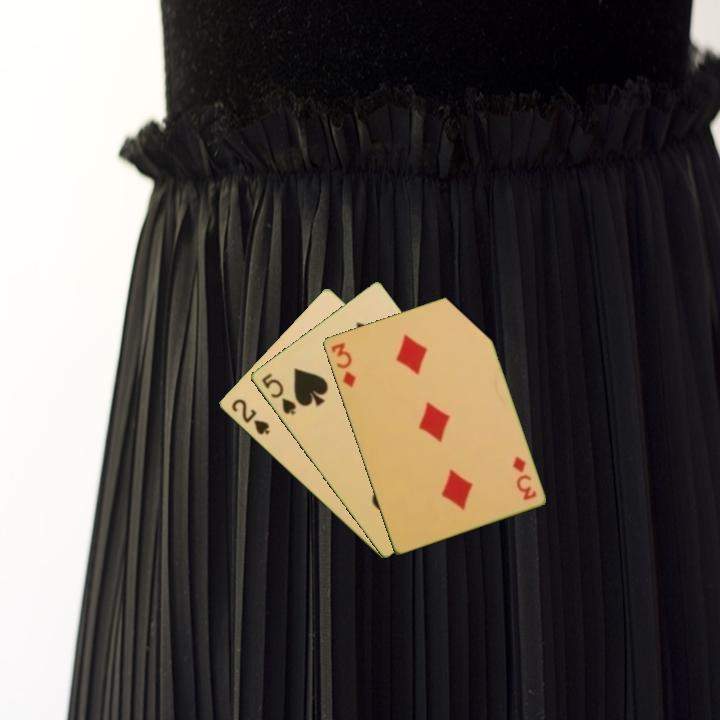2s: (228, 395, 273, 438)
3d: (327, 339, 359, 390), (509, 453, 539, 503)
5s: (258, 370, 299, 418)
